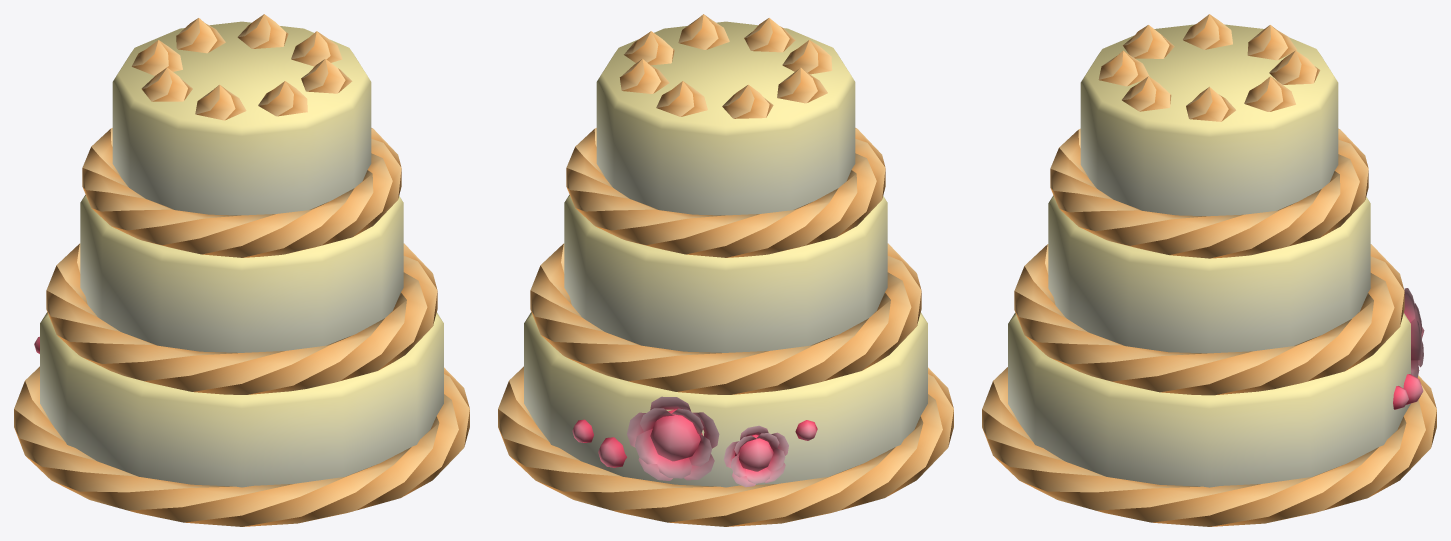
File: m_WeddingCake02.fbx
3 views of the same model, side by side, from view 1: azimuth 30°, elevation 25°; view 2: azimuth 150°, elevation 25°; view 3: azimuth 270°, elevation 25° (orthographic).
Parts seen in each view (by area): view 1: m_WeddingCake02; view 2: m_WeddingCake02; view 3: m_WeddingCake02.
Part boxes in pixels (x1=…): m_WeddingCake02: x1=14, y1=14, x2=469, y2=526; m_WeddingCake02: x1=498, y1=14, x2=953, y2=526; m_WeddingCake02: x1=982, y1=14, x2=1436, y2=526.
Bounding box in the file's own units: 32 × 29.61 × 31.61.
